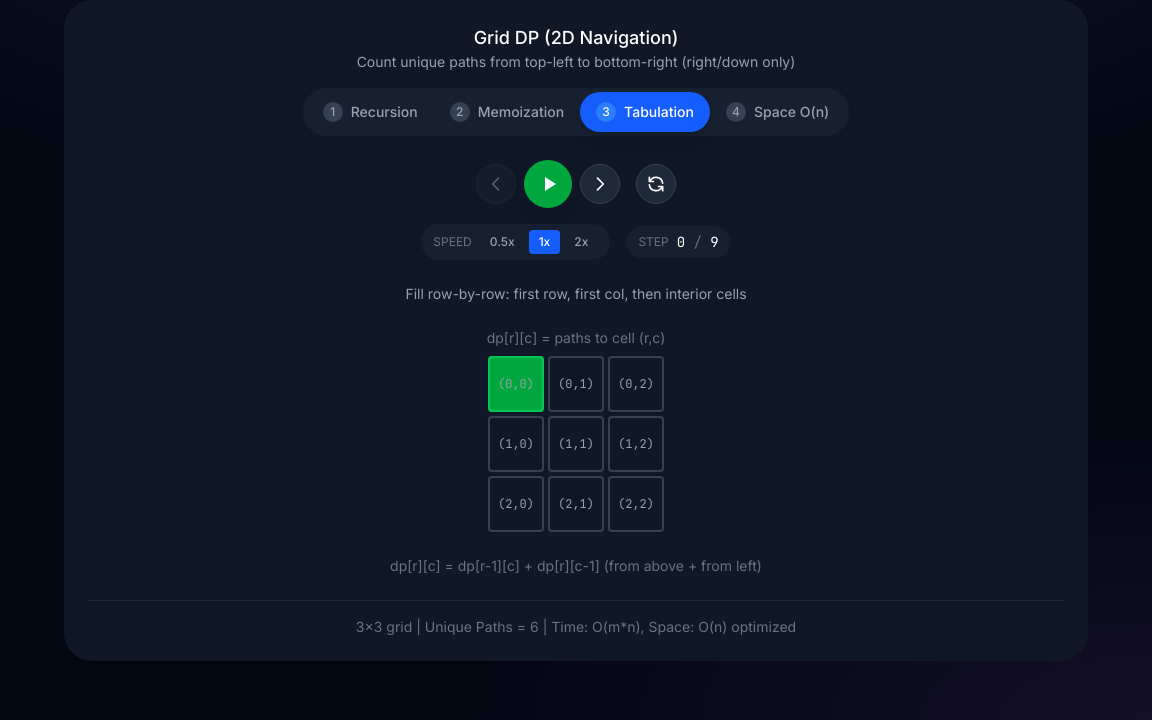
Scenario: Dynamic programming visualizers › GridDPVisualizer switches between tabulation and memoization
The width and height of the screenshot is (1152, 720).
Expected: the text "Grid DP (2D Navigation)" is shown, [474,27,678,48]
Click the button "2 Memoization" at (507, 112), box [434,92,580,132]
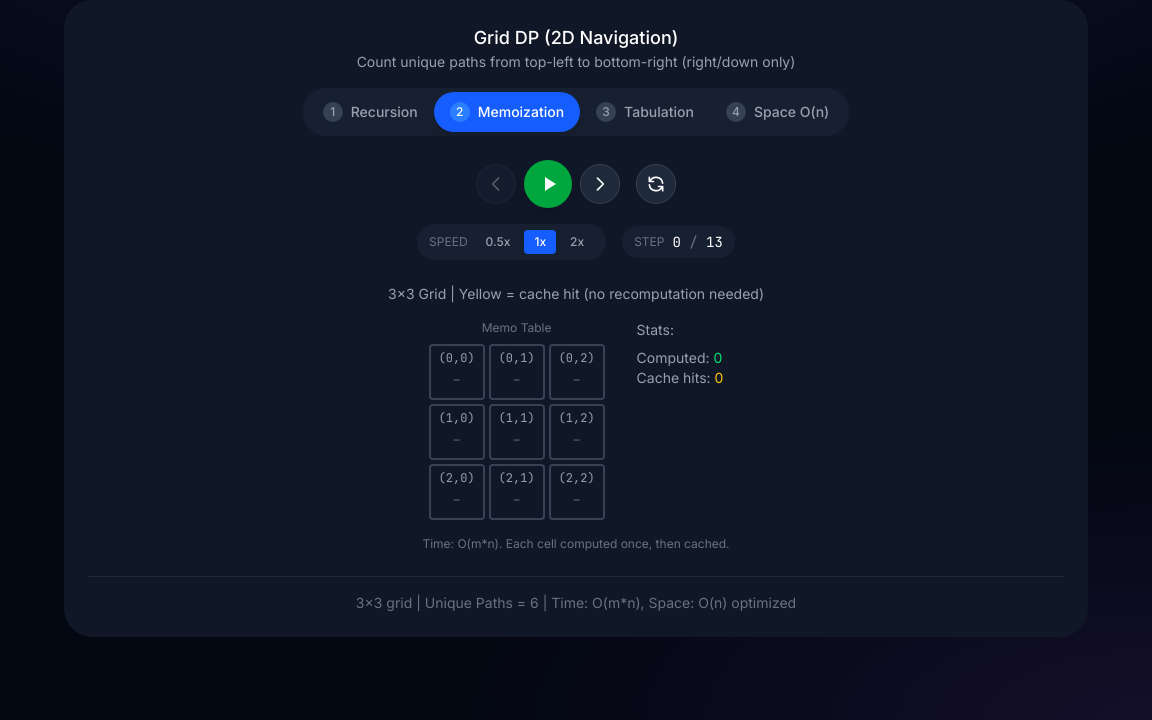
Expected: the text "Memo Table" is shown, [482,320,552,335]
